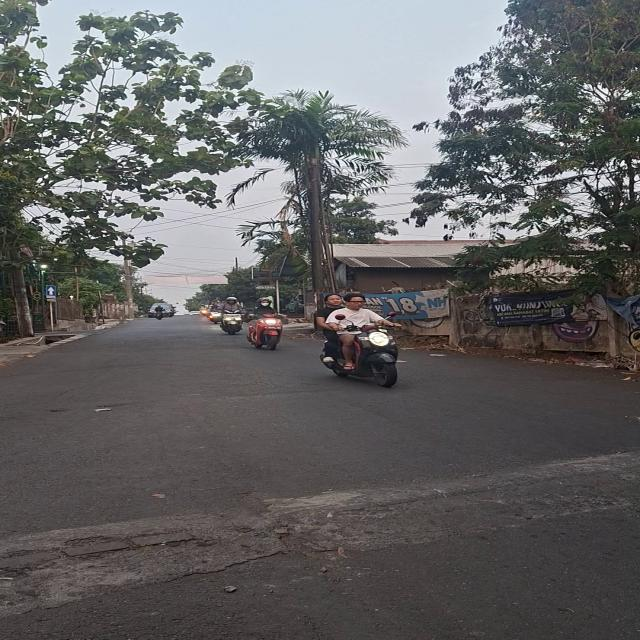WithHelmet: (246, 297, 289, 343), (215, 296, 248, 330), (206, 302, 223, 319), (153, 305, 165, 317)
WithoutHelmet: (315, 294, 403, 389)
